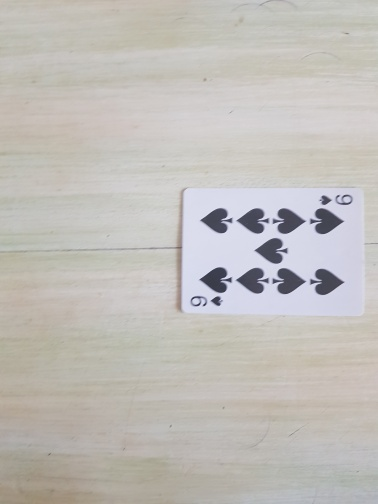nine: (180, 187, 366, 317)
